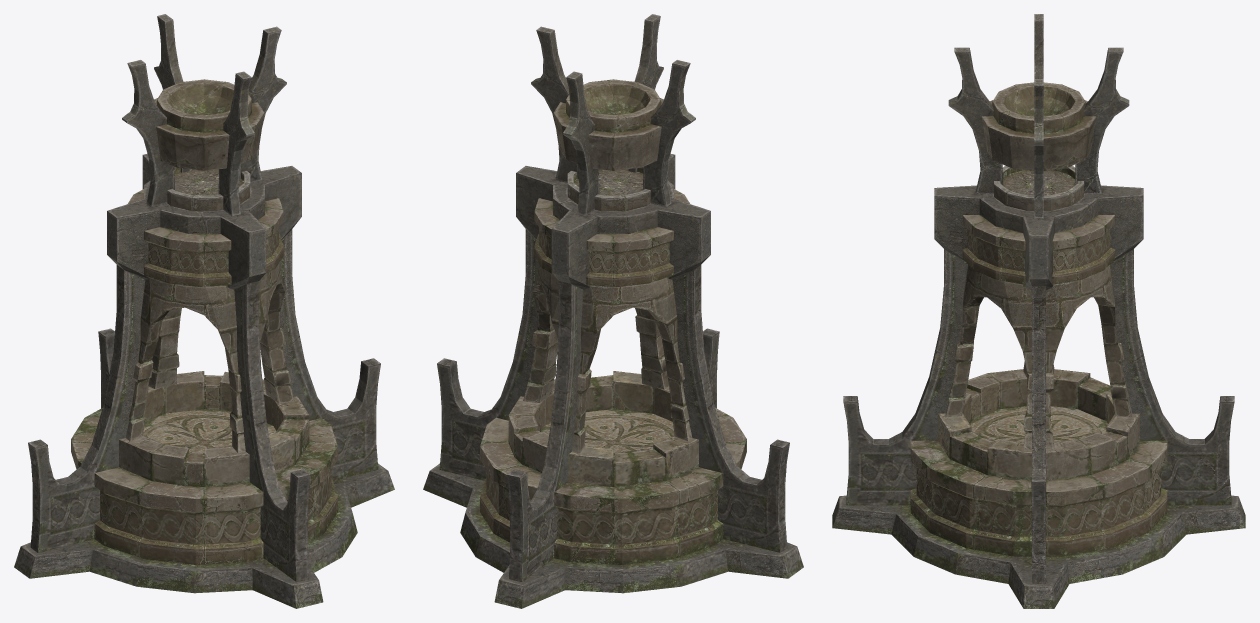
The model's file is bg_lut_lutomb_lt01_sm_psr.FBX.
3 views of the same model, side by side, from view 1: azimuth 30°, elevation 25°; view 2: azimuth 150°, elevation 25°; view 3: azimuth 270°, elevation 25° (orthographic). The views are drawn at different scales.
Visible parts, largest first — view 1: bg_lut_lutomb_lt01_sm_psr; view 2: bg_lut_lutomb_lt01_sm_psr; view 3: bg_lut_lutomb_lt01_sm_psr.
Boxes of the visible parts, box(x1,y1,x2,y2) form: bg_lut_lutomb_lt01_sm_psr: box(14, 14, 394, 608); bg_lut_lutomb_lt01_sm_psr: box(423, 14, 803, 608); bg_lut_lutomb_lt01_sm_psr: box(832, 14, 1245, 608).
Bounding box in the file's own units: 348 × 438 × 348.
